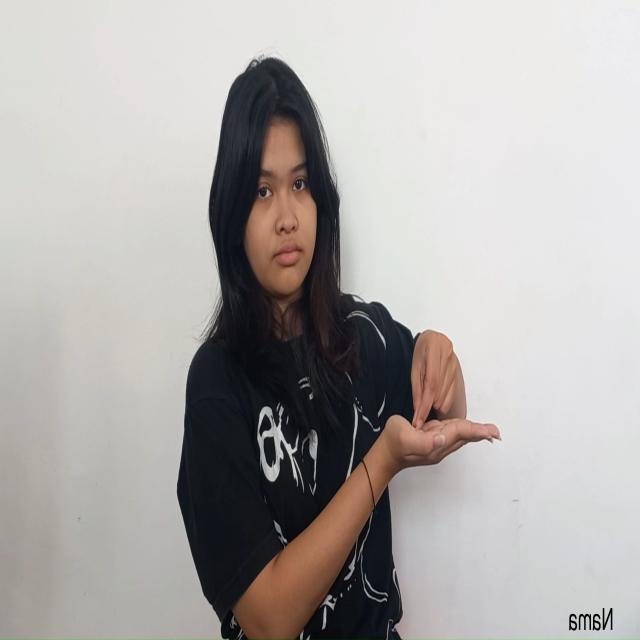Nama -BISINDO-: (382, 329, 502, 481)
